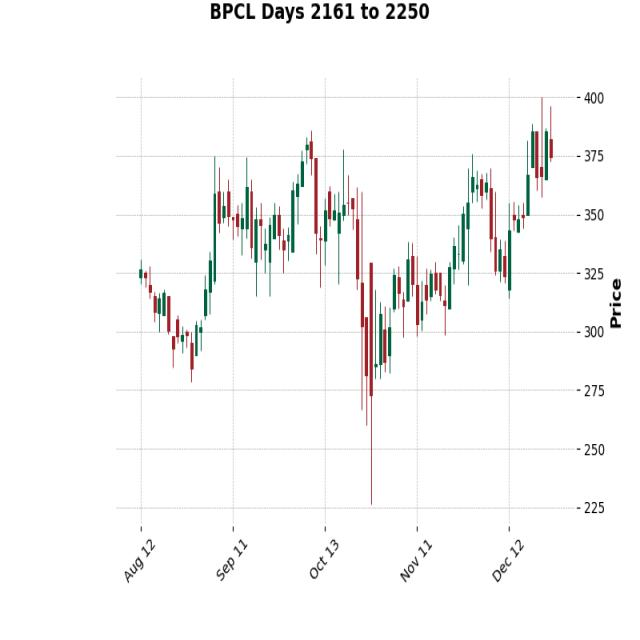Double Bottom: (344, 283, 427, 519)
